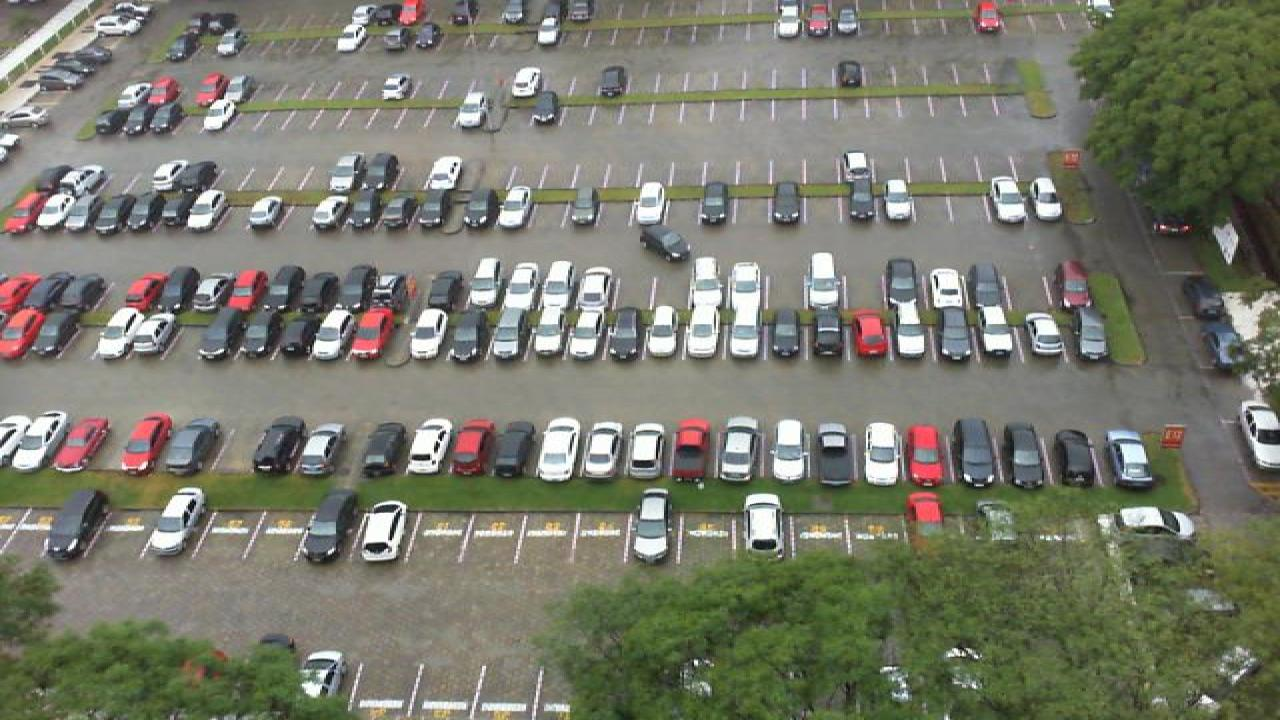Car: (42, 489, 108, 562), (296, 486, 356, 565), (148, 486, 212, 557), (950, 416, 998, 490), (162, 416, 218, 477), (118, 413, 172, 476), (630, 487, 674, 564), (534, 416, 584, 483), (358, 500, 410, 564), (1110, 424, 1158, 493), (254, 414, 306, 477), (54, 416, 110, 474), (716, 416, 762, 485), (1000, 422, 1048, 488), (18, 412, 68, 472), (766, 417, 810, 485), (1236, 402, 1280, 470), (742, 493, 786, 560), (448, 418, 494, 480), (582, 420, 628, 482), (802, 250, 848, 312), (1054, 426, 1098, 490), (672, 417, 714, 484), (906, 422, 948, 489), (358, 419, 406, 477), (408, 418, 454, 478), (862, 422, 904, 487), (626, 422, 670, 484), (1116, 505, 1196, 539), (492, 421, 538, 479), (350, 306, 396, 364), (814, 421, 854, 486), (0, 411, 44, 469), (300, 422, 346, 477), (238, 307, 284, 362), (976, 302, 1018, 362), (406, 307, 450, 363), (298, 650, 346, 700), (94, 309, 140, 361), (312, 308, 356, 362), (1022, 312, 1070, 361), (200, 307, 244, 360), (278, 308, 322, 361), (602, 306, 644, 361), (34, 309, 80, 359), (134, 310, 180, 360), (26, 271, 76, 317), (850, 309, 894, 361), (724, 305, 764, 362), (450, 187, 498, 234), (1056, 260, 1096, 316), (892, 305, 930, 363), (934, 303, 972, 361), (502, 260, 542, 315), (448, 310, 490, 362), (880, 258, 922, 310), (726, 261, 768, 313), (0, 192, 52, 234), (684, 304, 722, 361), (1072, 310, 1112, 364), (638, 226, 698, 262), (968, 262, 1010, 313), (526, 307, 564, 363), (644, 307, 684, 360), (336, 264, 378, 314), (264, 263, 306, 313), (490, 308, 528, 362), (564, 308, 602, 362), (32, 190, 78, 234), (686, 256, 722, 312), (226, 268, 268, 316), (62, 274, 110, 316), (808, 307, 846, 360), (988, 174, 1028, 224), (0, 309, 38, 361), (840, 177, 880, 226), (464, 258, 500, 312), (574, 264, 612, 315), (628, 180, 668, 228), (768, 307, 804, 360), (538, 262, 574, 315), (928, 265, 966, 314), (906, 490, 948, 534), (120, 273, 164, 315), (156, 266, 196, 312), (426, 270, 468, 313), (370, 268, 410, 312), (298, 268, 338, 312), (190, 269, 230, 313), (186, 189, 226, 233), (324, 152, 364, 196), (308, 189, 348, 232), (60, 189, 98, 233), (412, 187, 448, 233), (766, 180, 802, 226), (32, 163, 78, 199), (0, 273, 40, 314), (94, 190, 132, 233), (124, 190, 162, 233), (564, 185, 602, 228), (696, 180, 730, 226), (1030, 176, 1064, 222), (246, 193, 284, 233), (360, 152, 398, 192), (60, 164, 106, 197), (346, 187, 378, 233), (422, 156, 462, 192), (156, 189, 190, 231), (380, 190, 414, 232), (150, 158, 192, 192), (882, 180, 914, 224), (526, 89, 562, 127), (504, 189, 538, 229), (842, 150, 878, 185), (122, 101, 158, 136), (454, 91, 488, 128), (202, 101, 240, 134), (96, 106, 136, 137), (180, 161, 218, 193), (216, 74, 254, 106), (972, 1, 1006, 36), (508, 66, 544, 99), (774, 1, 806, 38), (192, 72, 226, 106), (118, 76, 154, 108), (164, 31, 200, 63), (152, 102, 186, 135), (148, 75, 182, 108), (596, 63, 628, 98), (0, 107, 50, 129), (334, 22, 368, 54), (804, 3, 834, 37), (532, 16, 564, 47), (204, 28, 236, 58), (836, 60, 866, 90), (380, 74, 412, 102), (832, 7, 862, 36), (412, 24, 442, 52), (380, 24, 410, 52)
